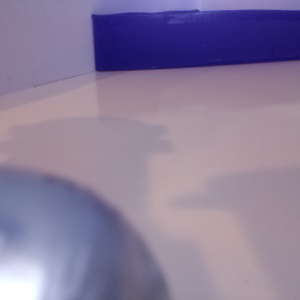zone: (91, 10, 300, 70)
